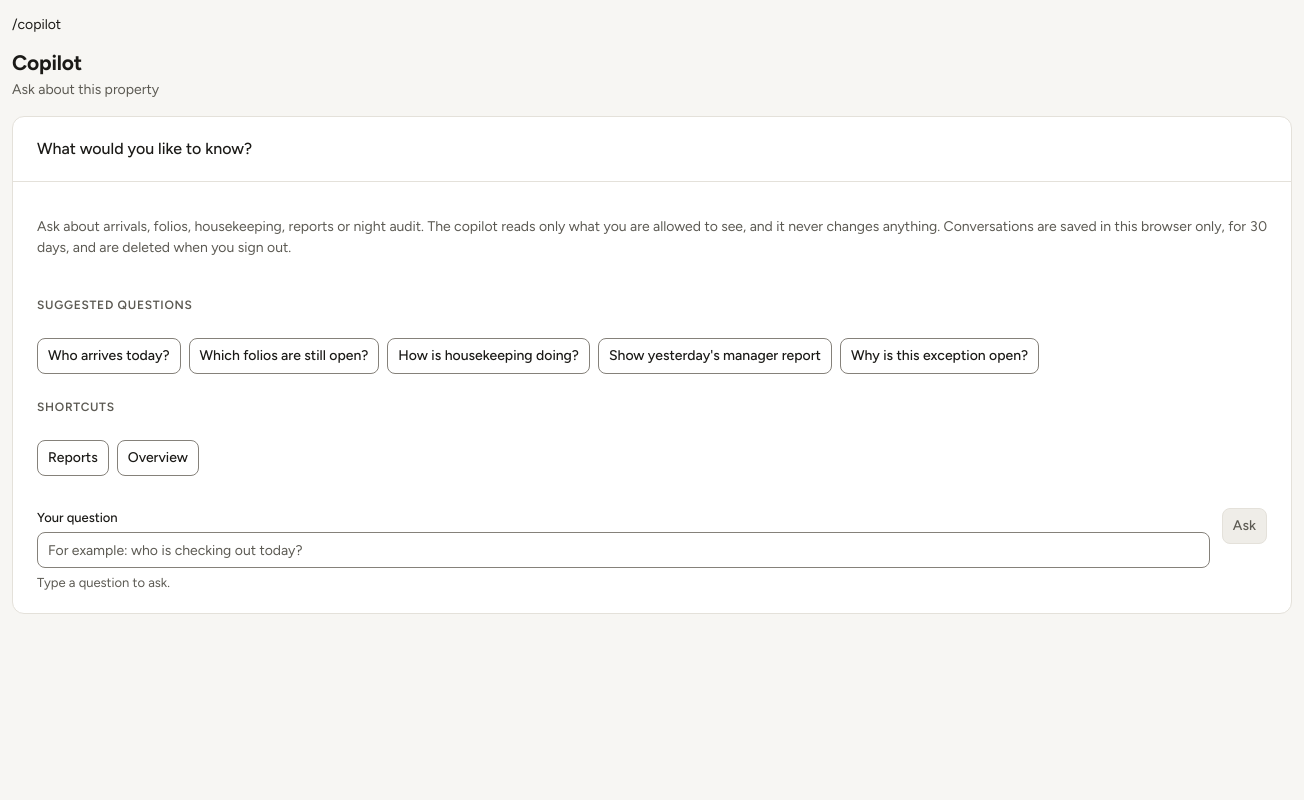
CopilotScreen (R4.16) › writes nothing before an answer and exactly one per-user, per-property key after it
Type "Who arrives today?" into the field with test id "copilot-input" at coordinates (623, 550), box 37,532 -> 1210,568
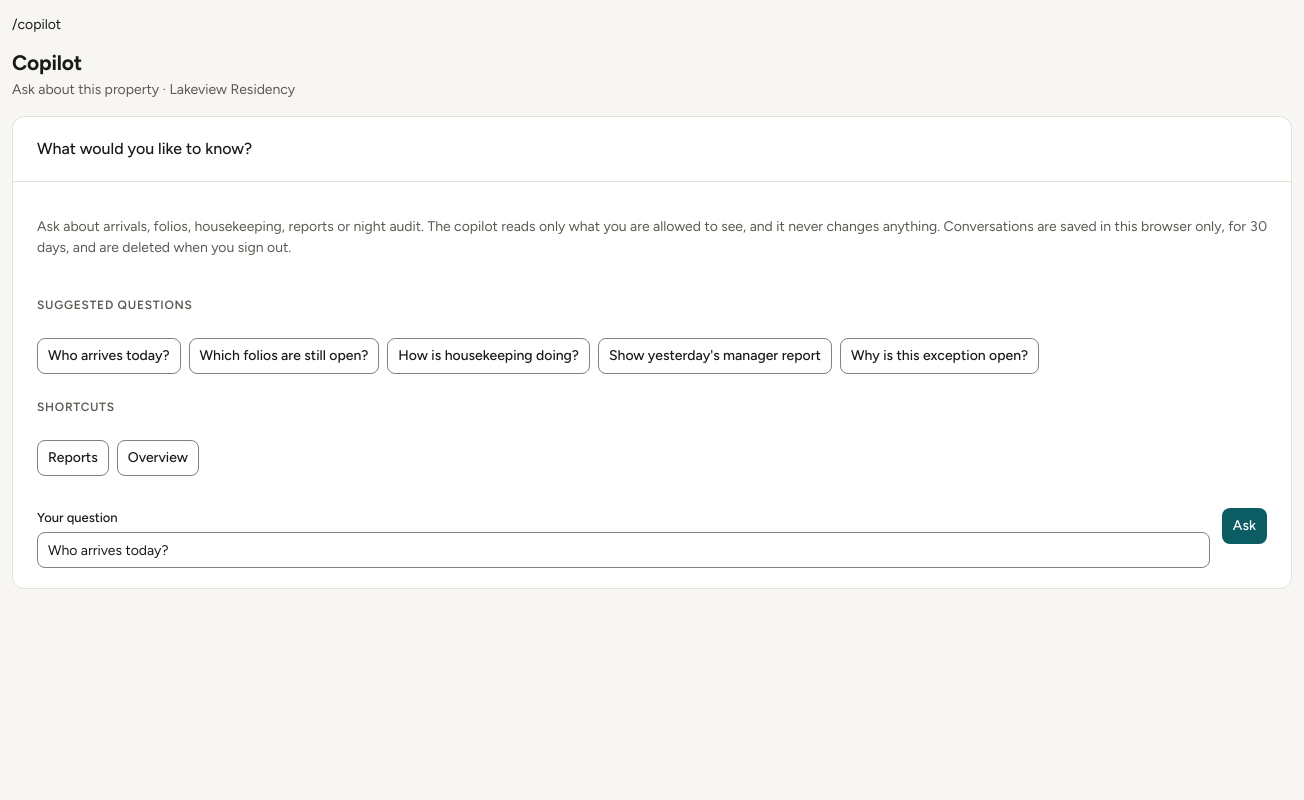
Click the button with test id "copilot-ask" at coordinates (1244, 526), box 1222,508 -> 1267,544
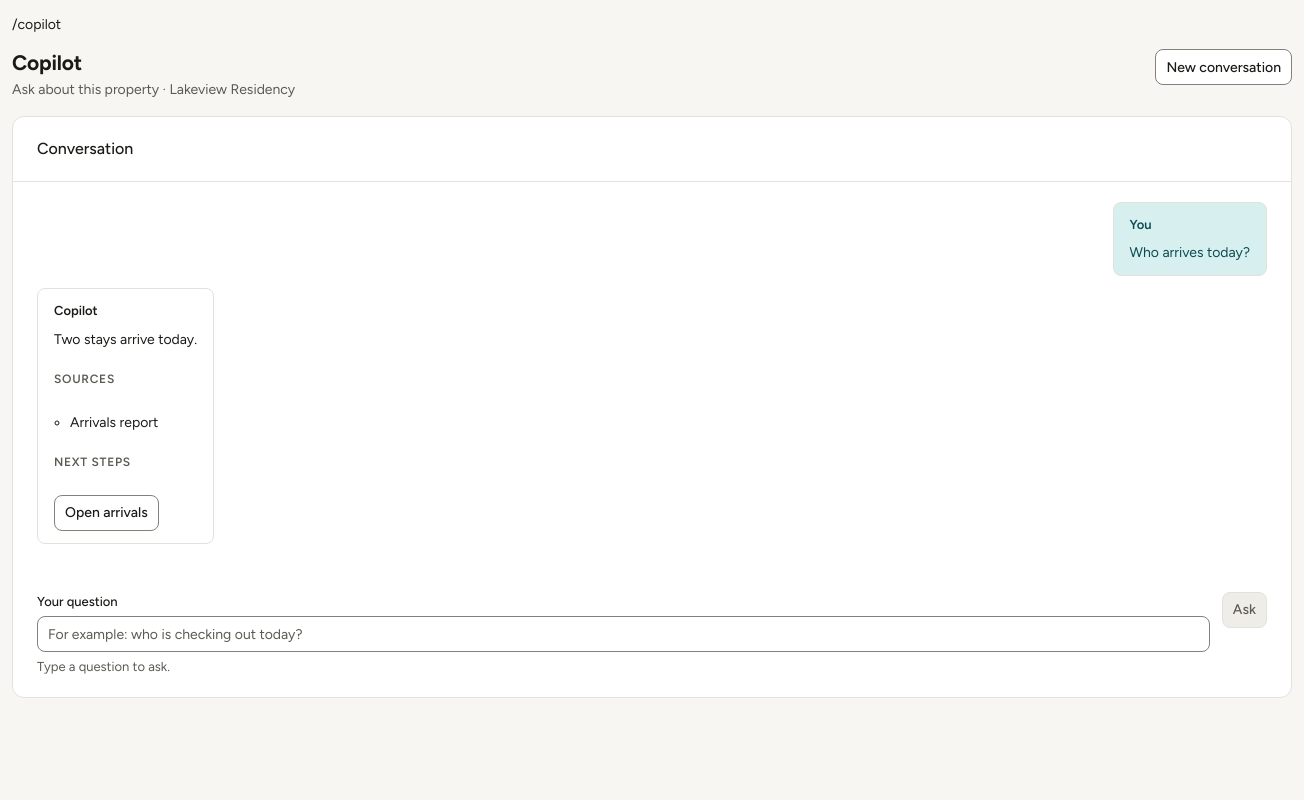
Expected: the text "Two stays arrive today." is shown, 54,329 -> 197,350
